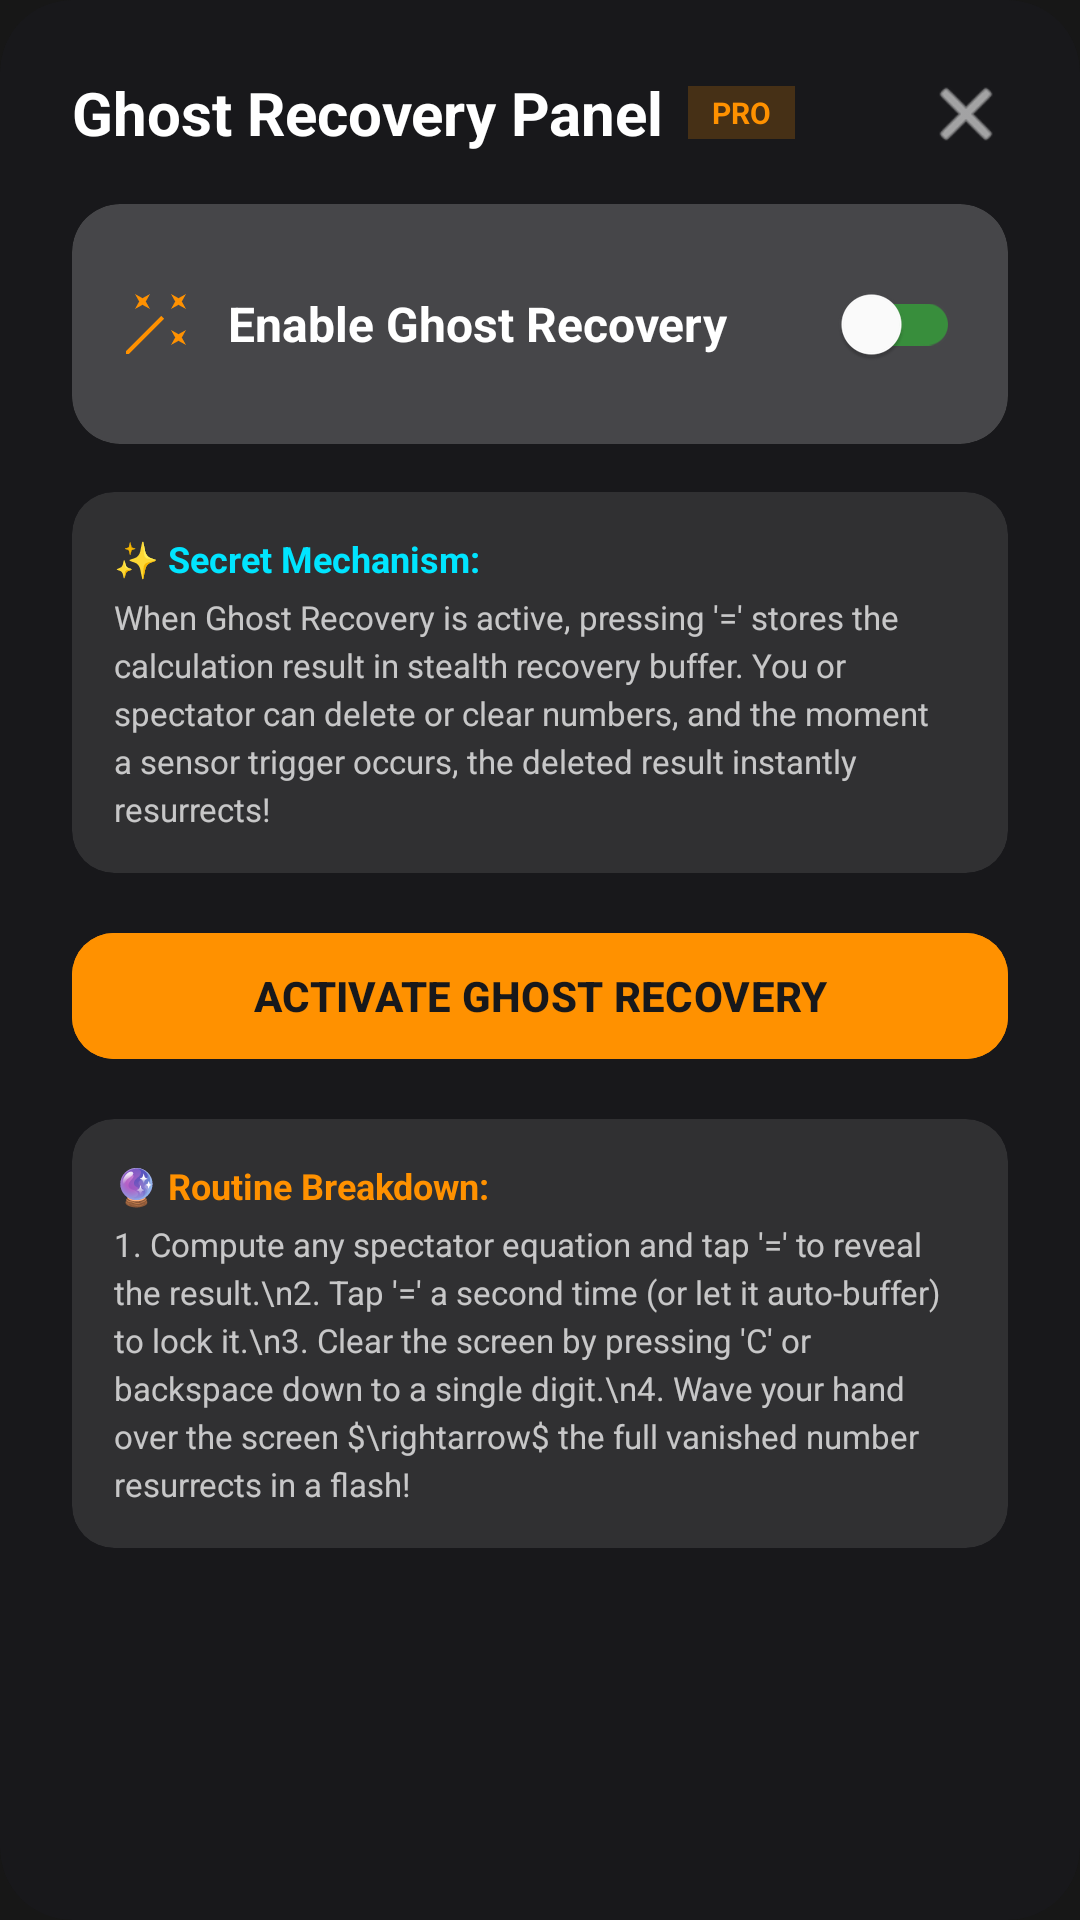

Screen size 1080 × 1920. Icon name, then its box in pixels as [x1,y1,x2,y2]:
close clear cancel: [940,88,992,140]
magic: [126,294,186,354]
